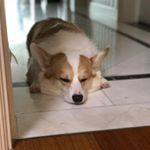puppy: (20, 15, 114, 107)
